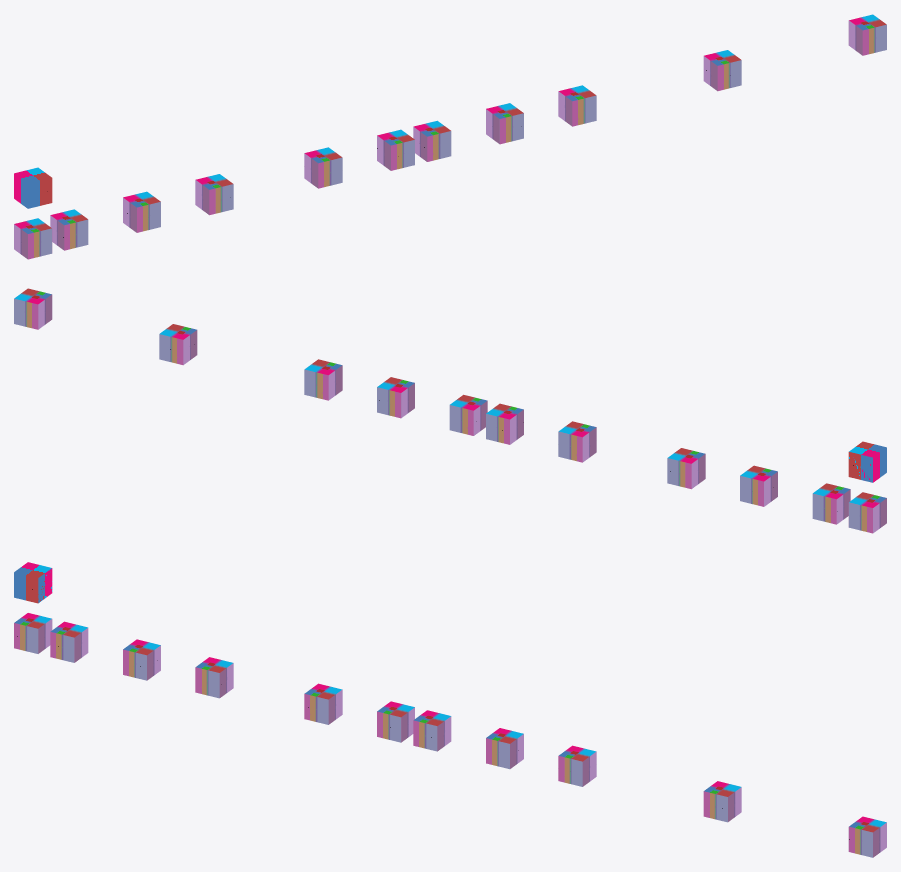
File: worn-helm.glb
3 views of the same model, one above another, from view 1: azimuth 30°, elevation 25°; view 2: azimuth 150°, elevation 25°; view 3: azimuth 330°, elevation 25° (orthographic).
Size of the model in its own units: 71 by 6 by 2.
12 materials, 12 textured.
